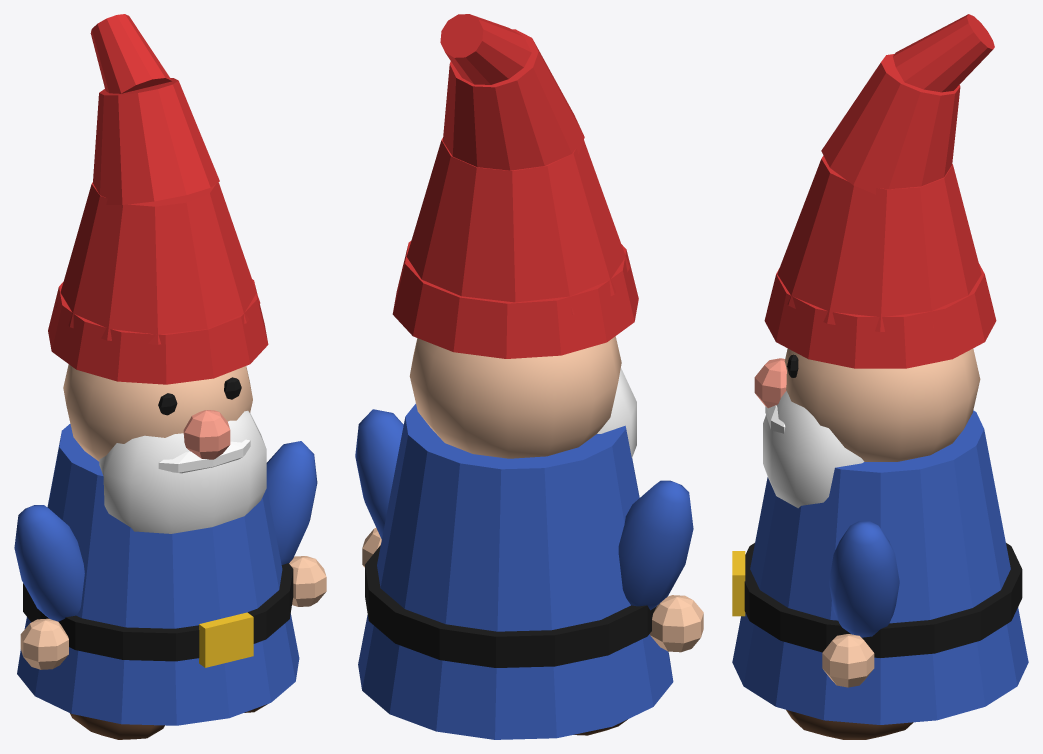
Rendered from Gnomo.fbx.
3 renders of one model, left to right at view 1: azimuth 30°, elevation 25°; view 2: azimuth 150°, elevation 25°; view 3: azimuth 270°, elevation 25°, orthographic. The views are drawn at different scales.
Parts seen in each view (by area): view 1: Corpo_Gnomo, Chapeu_Gnomo, Cabeca_Gnomo, Barba_Gnomo; view 2: Corpo_Gnomo, Chapeu_Gnomo, Cabeca_Gnomo, Barba_Gnomo; view 3: Corpo_Gnomo, Chapeu_Gnomo, Cabeca_Gnomo, Barba_Gnomo.
Part boxes in pixels (bbox=[...]): Corpo_Gnomo: bbox=[14, 424, 317, 739]; Chapeu_Gnomo: bbox=[48, 14, 268, 384]; Cabeca_Gnomo: bbox=[20, 364, 326, 669]; Barba_Gnomo: bbox=[99, 410, 266, 533]; Corpo_Gnomo: bbox=[355, 403, 693, 739]; Chapeu_Gnomo: bbox=[392, 14, 638, 358]; Cabeca_Gnomo: bbox=[362, 336, 703, 652]; Barba_Gnomo: bbox=[597, 368, 636, 457]; Corpo_Gnomo: bbox=[732, 410, 1028, 739]; Chapeu_Gnomo: bbox=[764, 14, 996, 368]; Cabeca_Gnomo: bbox=[754, 348, 980, 687]; Barba_Gnomo: bbox=[763, 391, 864, 508].
Bounding box in the file's own units: 1.12 × 2.36 × 0.92.
Materials: 1 (1 with a texture image).
